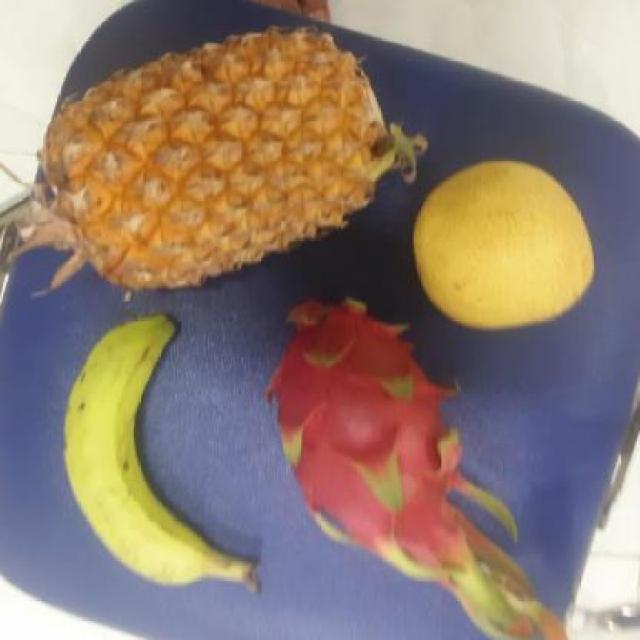banana: (59, 318, 246, 585)
dragon fruit: (252, 293, 490, 590)
pear: (410, 158, 598, 330)
pineapple: (43, 6, 388, 291)
